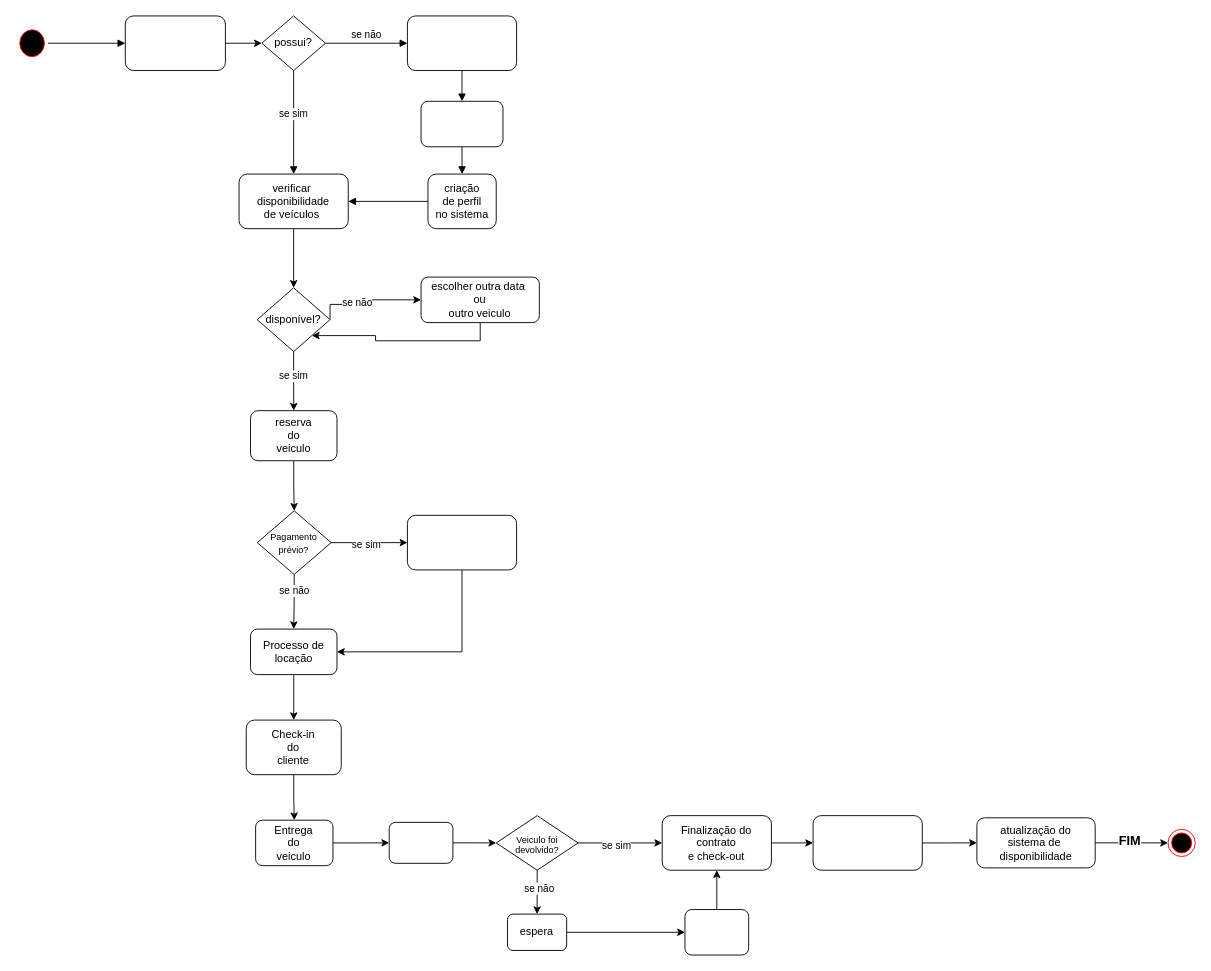
Some shapes in this 1211 by 971 pixel diagram are drawn without their labels. The shapes that lost their labels are listed below. From the top down, each one's centre as x and y in pixels, then its label:
At (x=174, y=43): "registro de cliente".
At (x=461, y=43): "Coleta de dados pessoais".
At (x=461, y=123): "verificação de documentos".
At (x=461, y=542): "Processar pagamento".
At (x=420, y=842): "devolução".
At (x=867, y=842): "limpeza e manutenção do veiculo".
At (x=716, y=932): "veiculo foi entregue".
